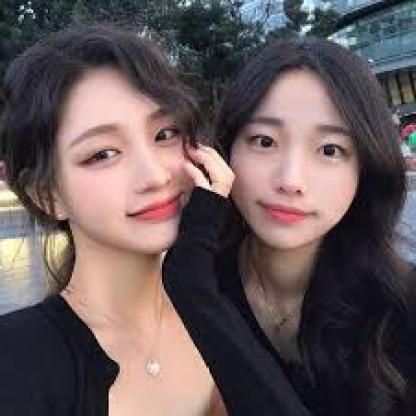person: (0, 32, 202, 265), (204, 37, 390, 258)
